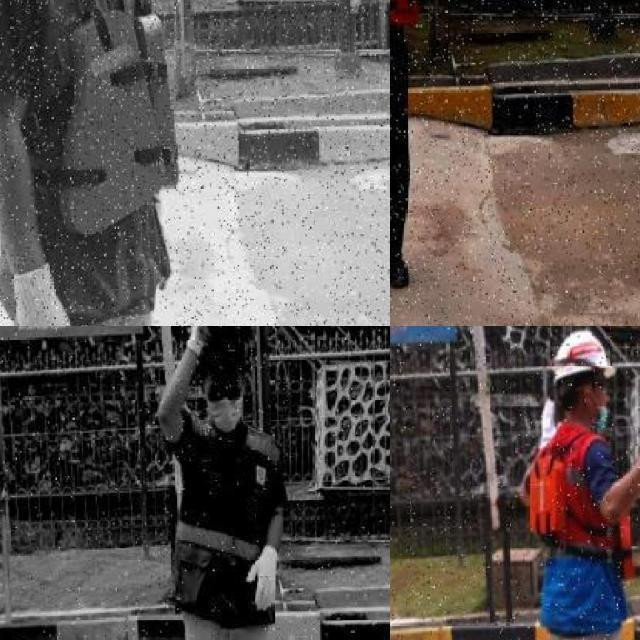apron: (4, 247, 90, 326), (246, 546, 280, 615), (185, 326, 228, 359), (538, 396, 562, 451)
